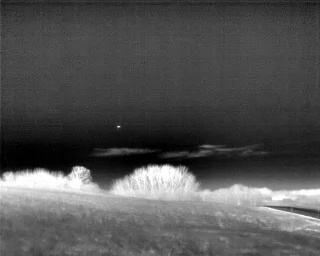AIRPLANE: (115, 123, 122, 130)
